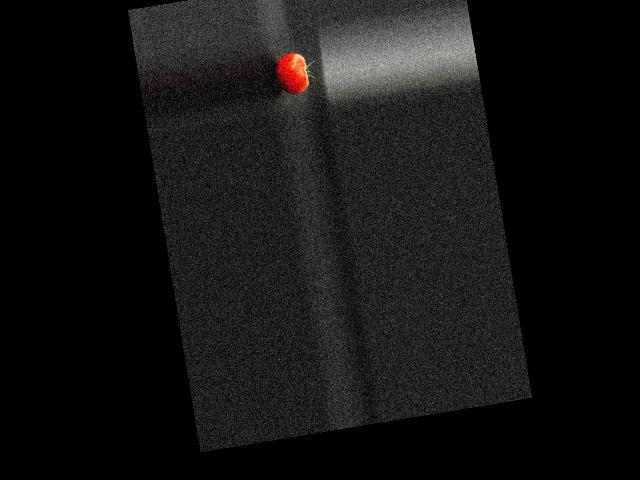tomato: (273, 50, 310, 96)
